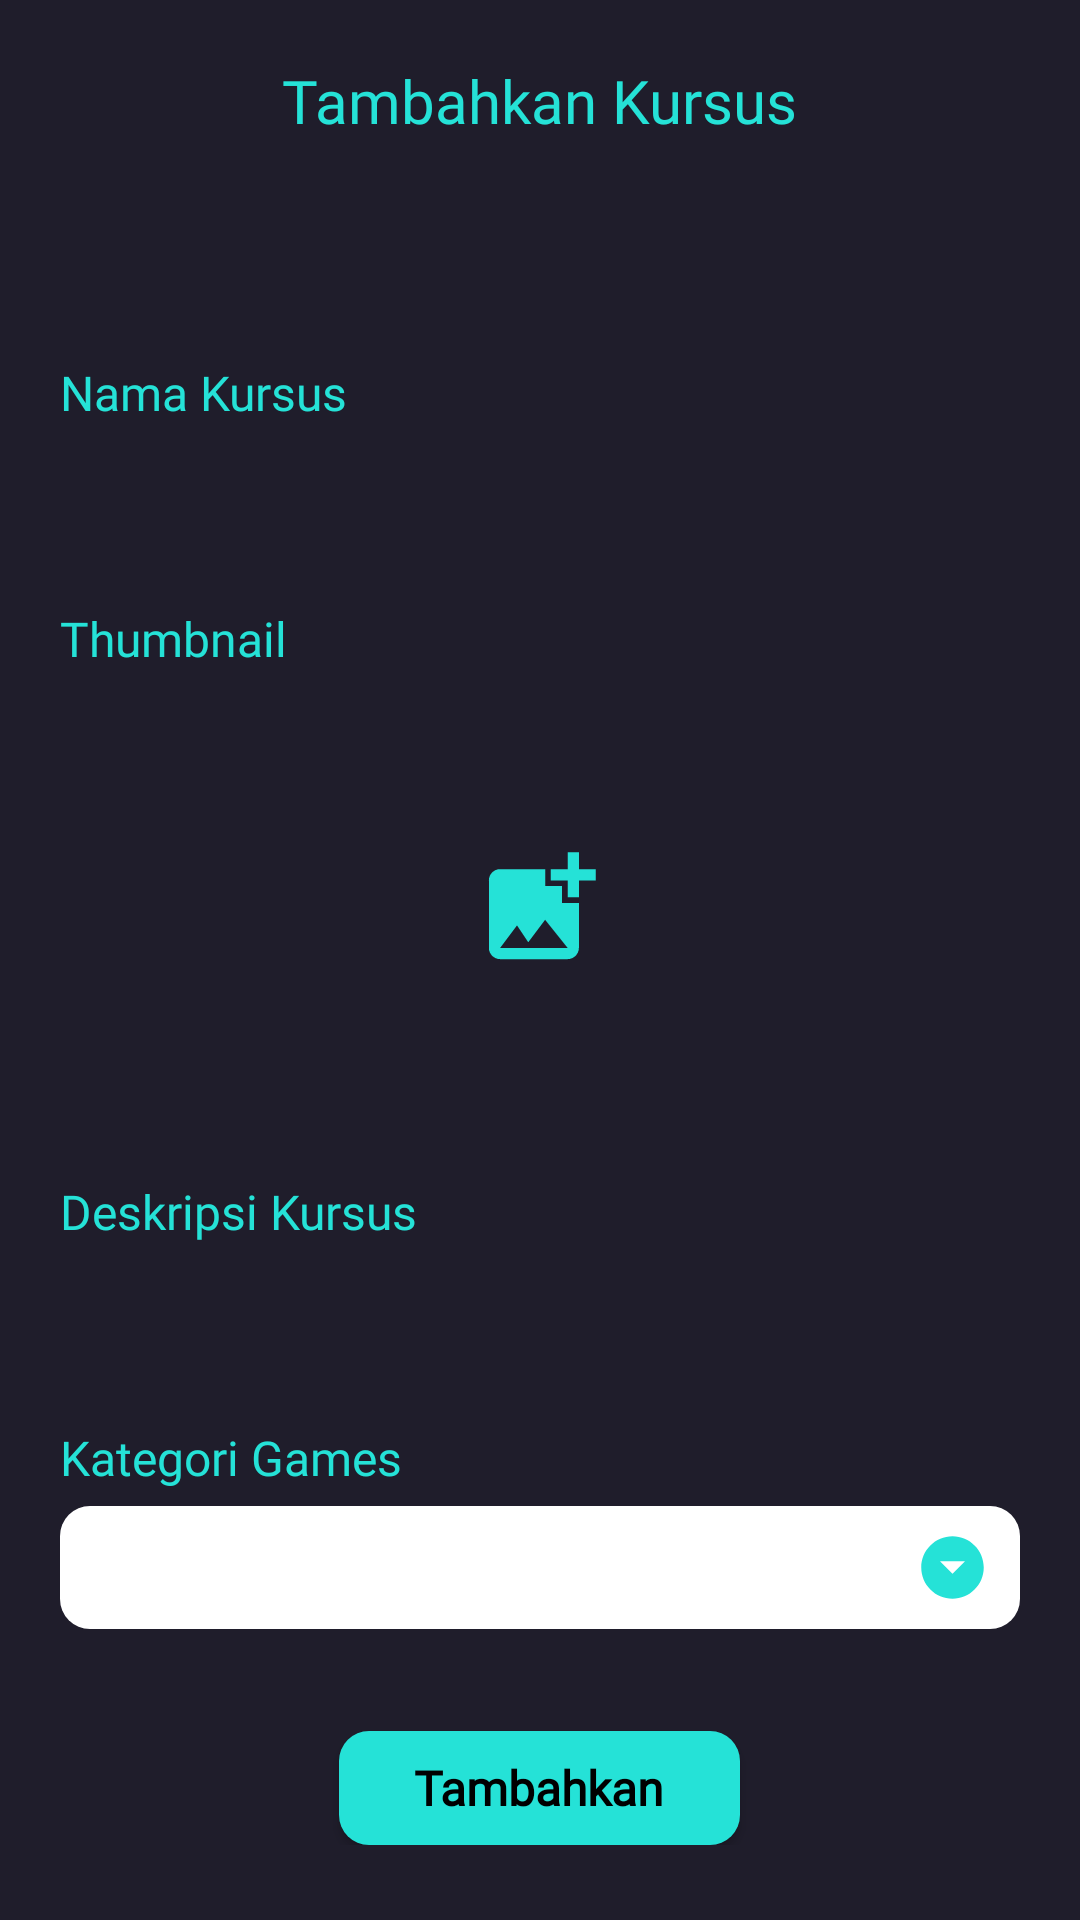

Named icons in this screenshot (1080w x 1920h) and their bounding boxes, (x1, y1, x2, y2):
add photo alternate: (489, 852, 596, 960)
